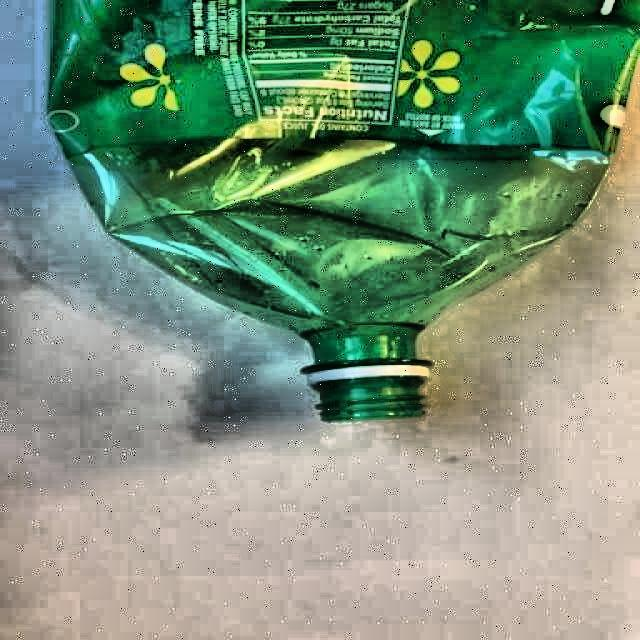plastic: (49, 0, 640, 420)
